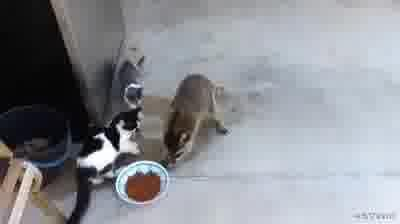raccoon: (162, 73, 229, 169)
